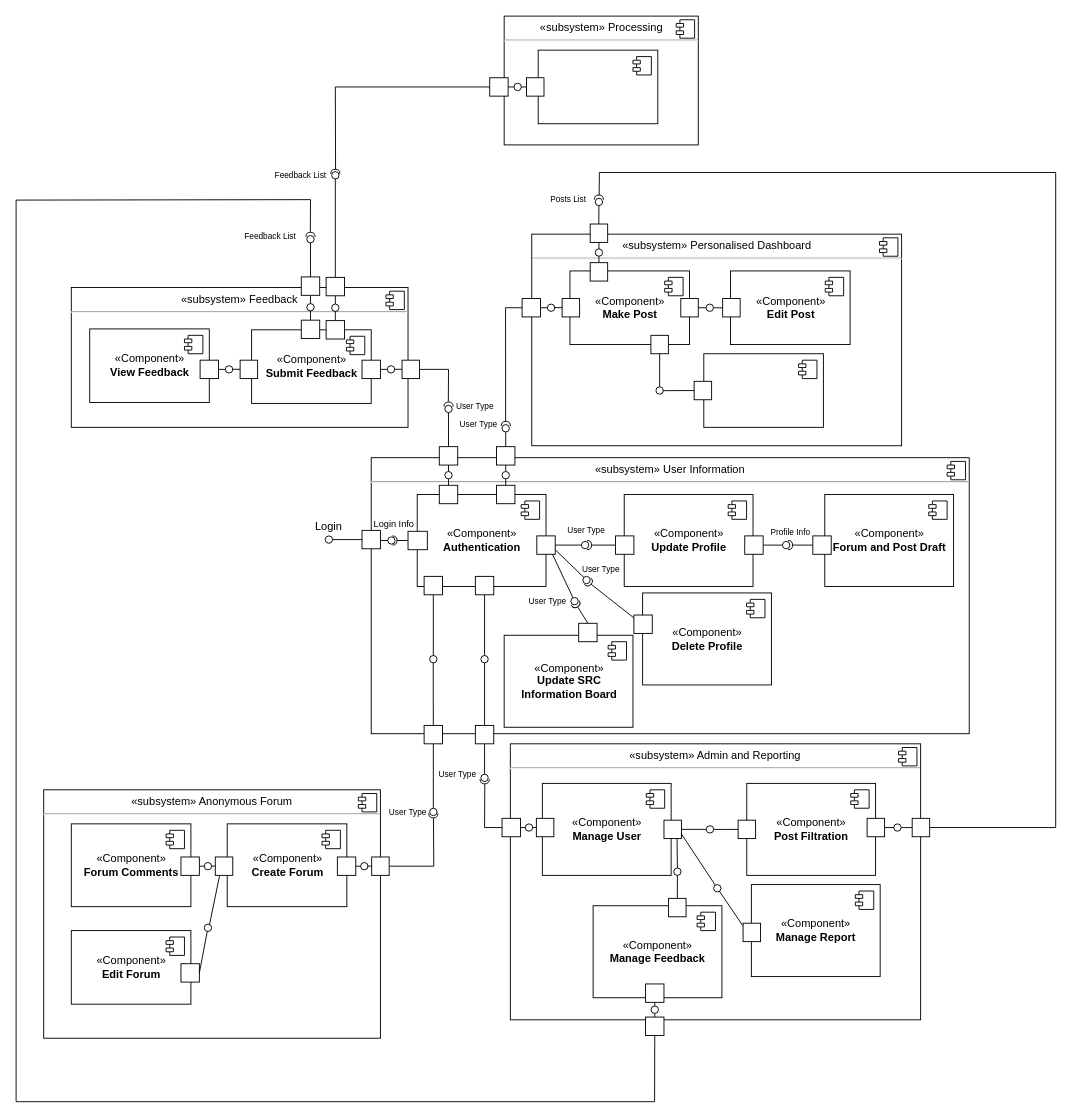
Some shapes in this 1073 by 1119 pixel diagram are drawn without their labels. Each missing label, with the centre of its shape:
"«Component» Delete Post" goes at [763,390].
"«Component» Validate Feedback" goes at [597,86].
